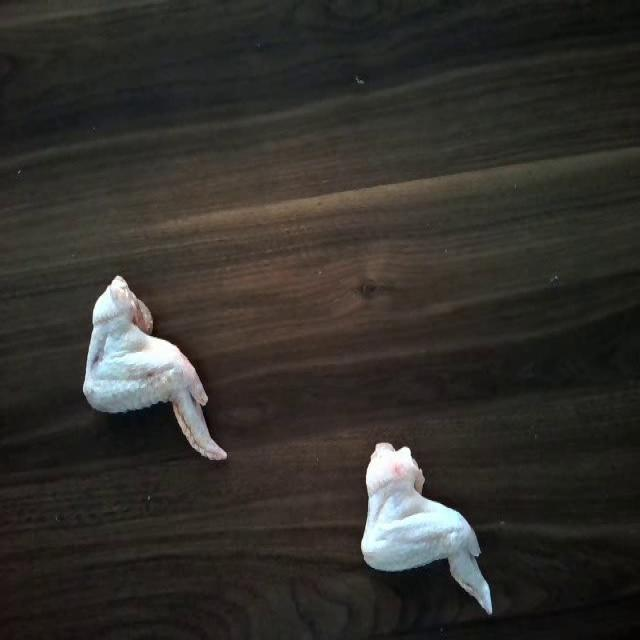wing: (77, 276, 232, 464), (353, 436, 501, 613)
